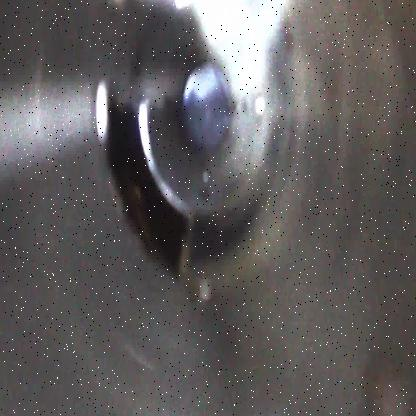Crack2: (98, 97, 194, 280)
